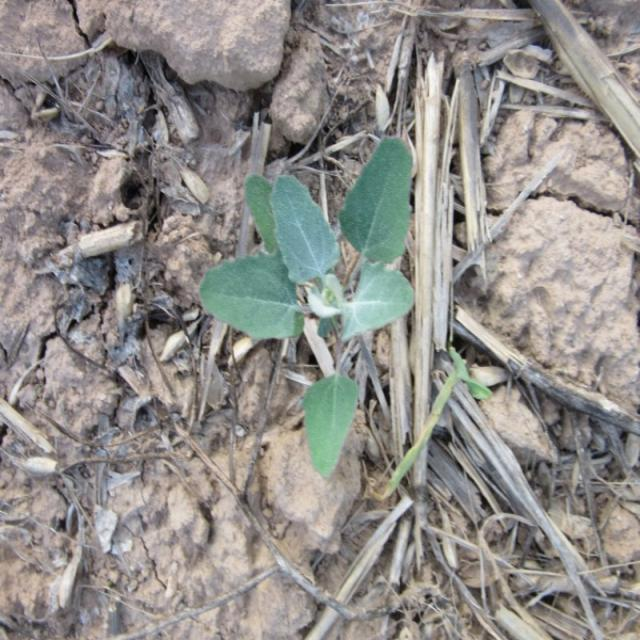ca: (204, 134, 413, 472)
